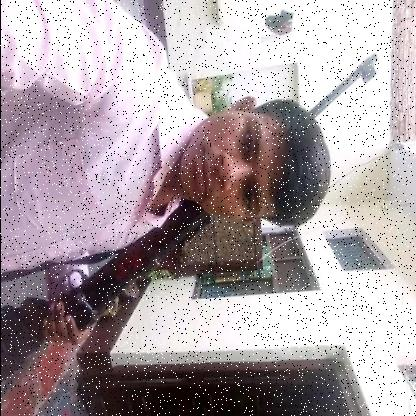rifle: (0, 50, 380, 384)
